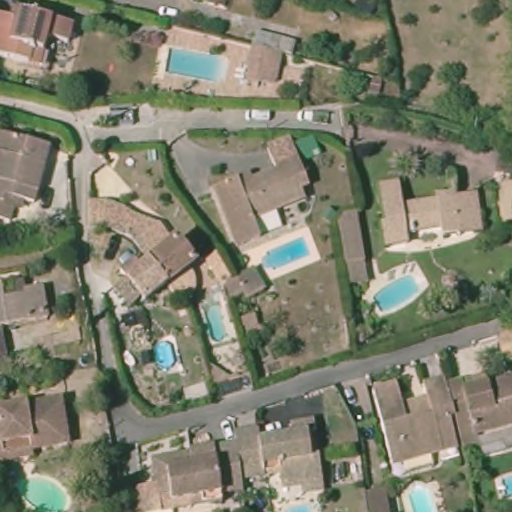pool: (254, 232, 314, 278), (159, 46, 229, 83), (366, 269, 423, 314), (12, 472, 72, 510), (198, 294, 235, 344), (396, 479, 438, 510), (149, 337, 179, 368), (498, 470, 512, 502)
